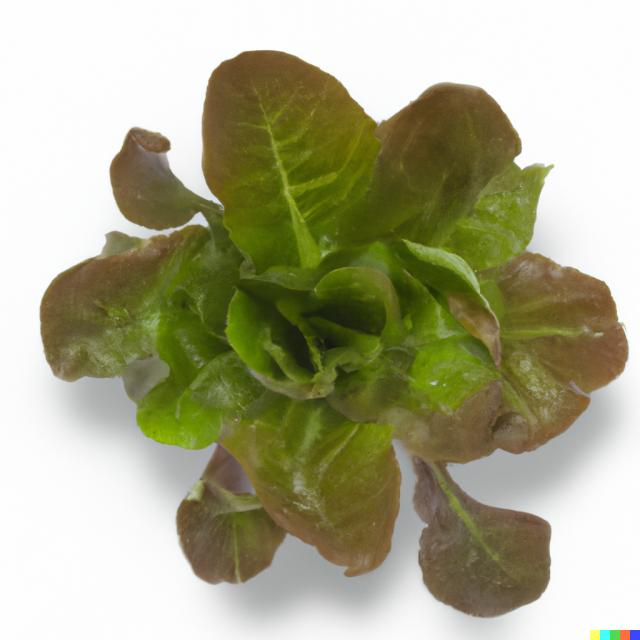-P: (32, 36, 640, 638)
